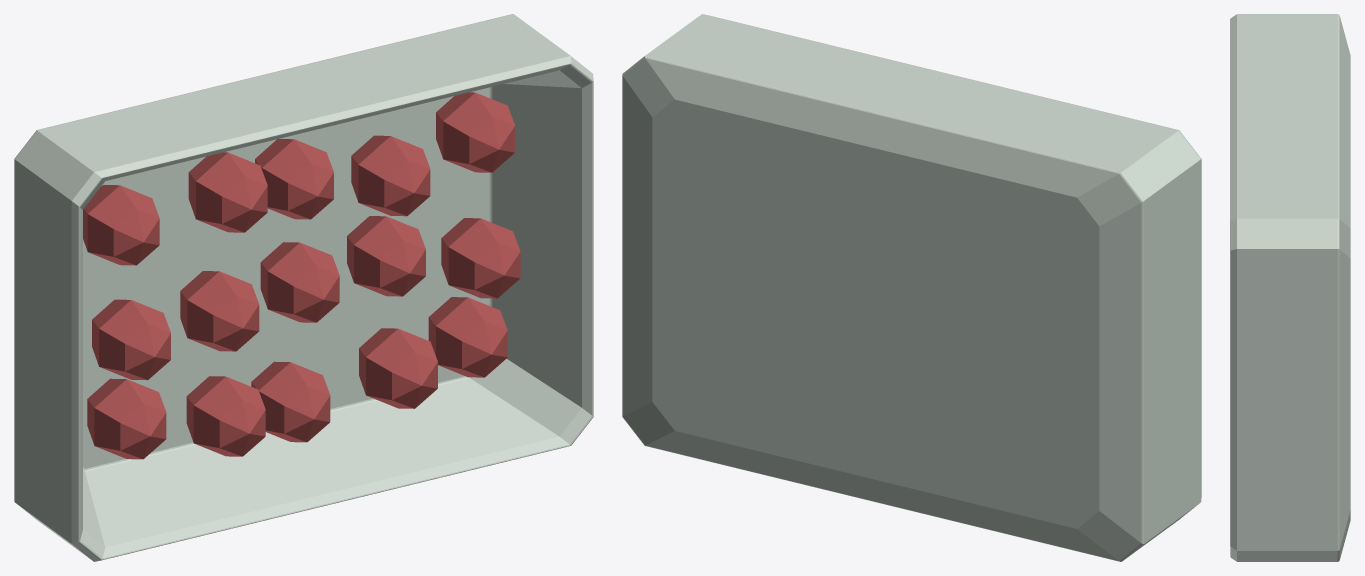
File: cranberries.glb
3 views of the same model, side by side, from view 1: azimuth 30°, elevation 25°; view 2: azimuth 150°, elevation 25°; view 3: azimuth 270°, elevation 25° (orthographic). The views are drawn at different scales.
Parts seen in each view (by area): view 1: cranberries; view 2: cranberries; view 3: cranberries.
Boxes of the visible parts, x1,y1,x2,y2 form: cranberries: (14, 14, 593, 561); cranberries: (622, 14, 1201, 561); cranberries: (1230, 14, 1350, 561).
Size of the model in its own units: 0.14 by 0.1 by 0.0318.
